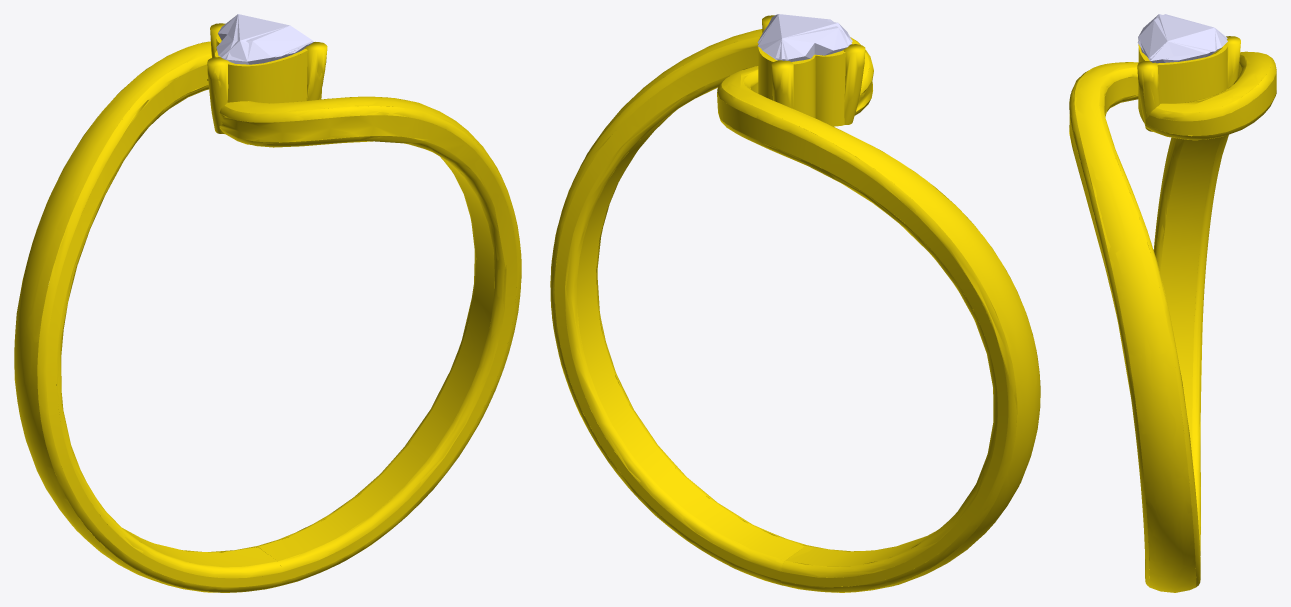
File: DLR-D000675380.glb
The picture shows the model from 3 angles, left to right: view 1: azimuth 30°, elevation 25°; view 2: azimuth 150°, elevation 25°; view 3: azimuth 270°, elevation 25°; orthographic projection. The views are drawn at different scales.
Visible parts, largest first — view 1: highPolyMesh, lowPolyMesh; view 2: lowPolyMesh, highPolyMesh; view 3: highPolyMesh, lowPolyMesh.
Part boxes in pixels (box(x1,y1,x2,y2)): highPolyMesh: box(14, 14, 521, 592); lowPolyMesh: box(14, 14, 521, 592); lowPolyMesh: box(550, 14, 1040, 592); highPolyMesh: box(550, 14, 1040, 592); highPolyMesh: box(1069, 14, 1276, 592); lowPolyMesh: box(1069, 14, 1276, 592).
Bounding box in the file's own units: 0.0196 × 0.0216 × 0.00756.
